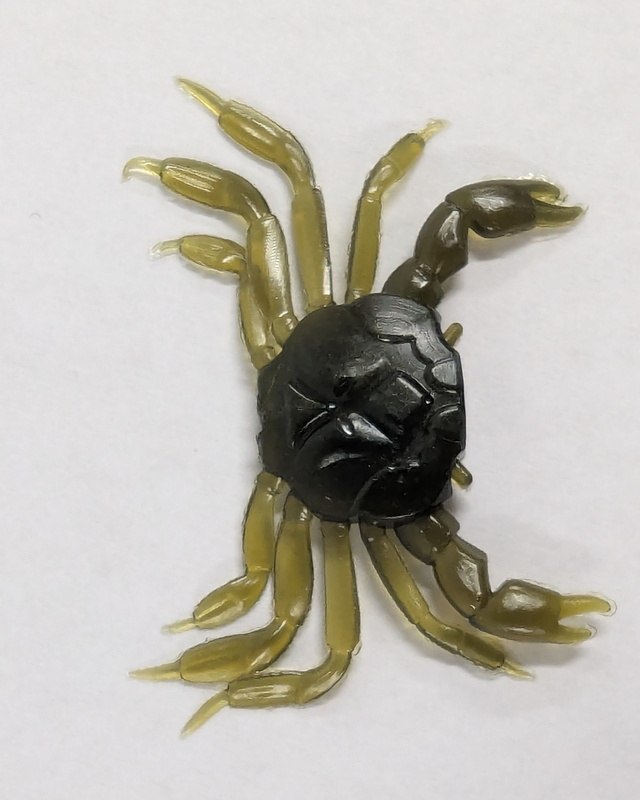crab2: (121, 73, 617, 735)
